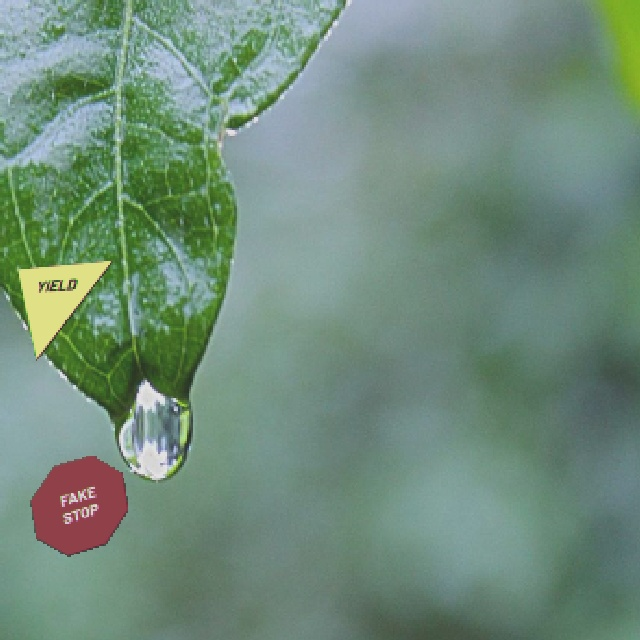FAKE_STOP: (28, 453, 127, 555)
YIELD: (15, 258, 113, 360)
